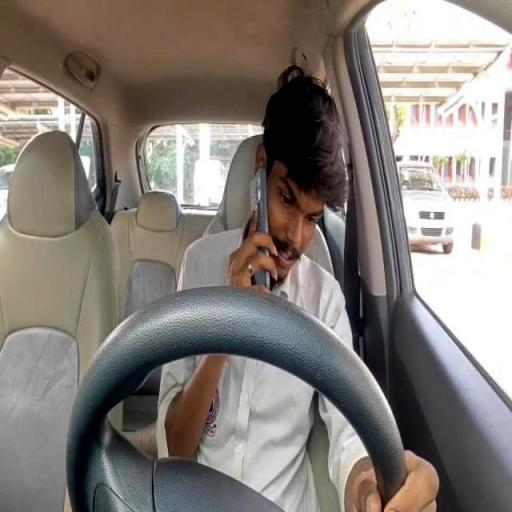Talking_on_phone: (188, 72, 368, 440)
